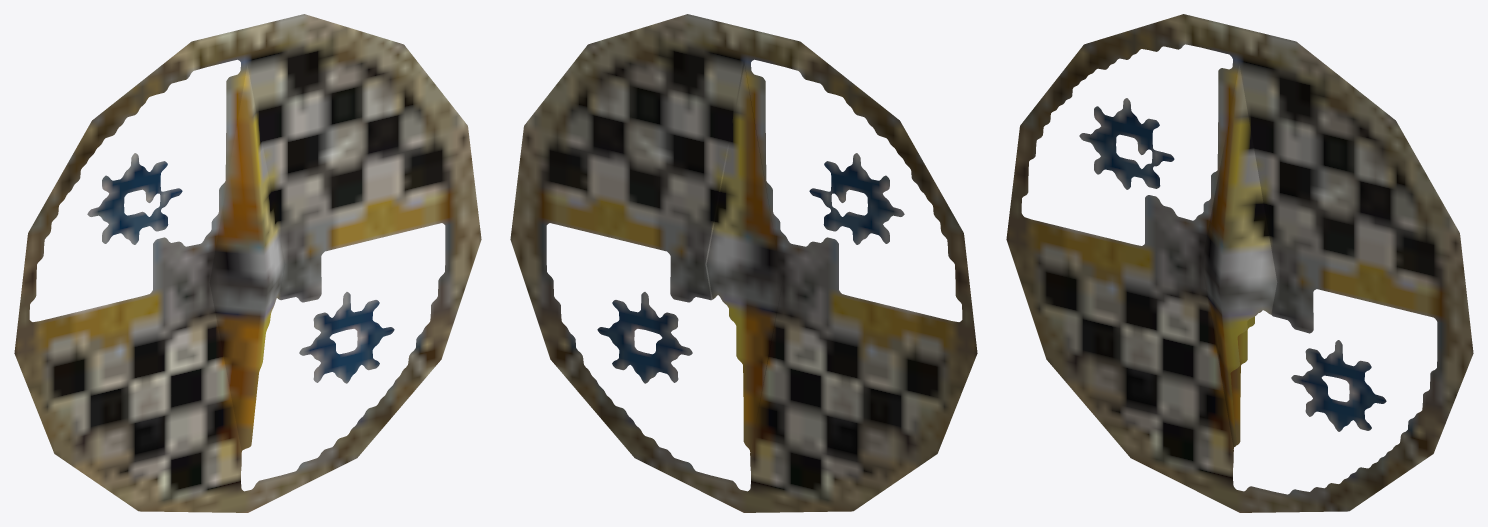
The model's file is celt_mill_shield.dae.
The picture shows the model from 3 angles, left to right: view 1: azimuth 30°, elevation 25°; view 2: azimuth 150°, elevation 25°; view 3: azimuth 330°, elevation 25°; orthographic projection.
Parts seen in each view (by area): view 1: Cylinder29-Pivot; view 2: Cylinder29-Pivot; view 3: Cylinder29-Pivot.
Part boxes in pixels (box(x1,y1,x2,y2)): Cylinder29-Pivot: box(14, 14, 481, 512); Cylinder29-Pivot: box(510, 14, 977, 512); Cylinder29-Pivot: box(1006, 14, 1473, 512).
Bounding box in the file's own units: 1.7 × 0.1258 × 1.68.
